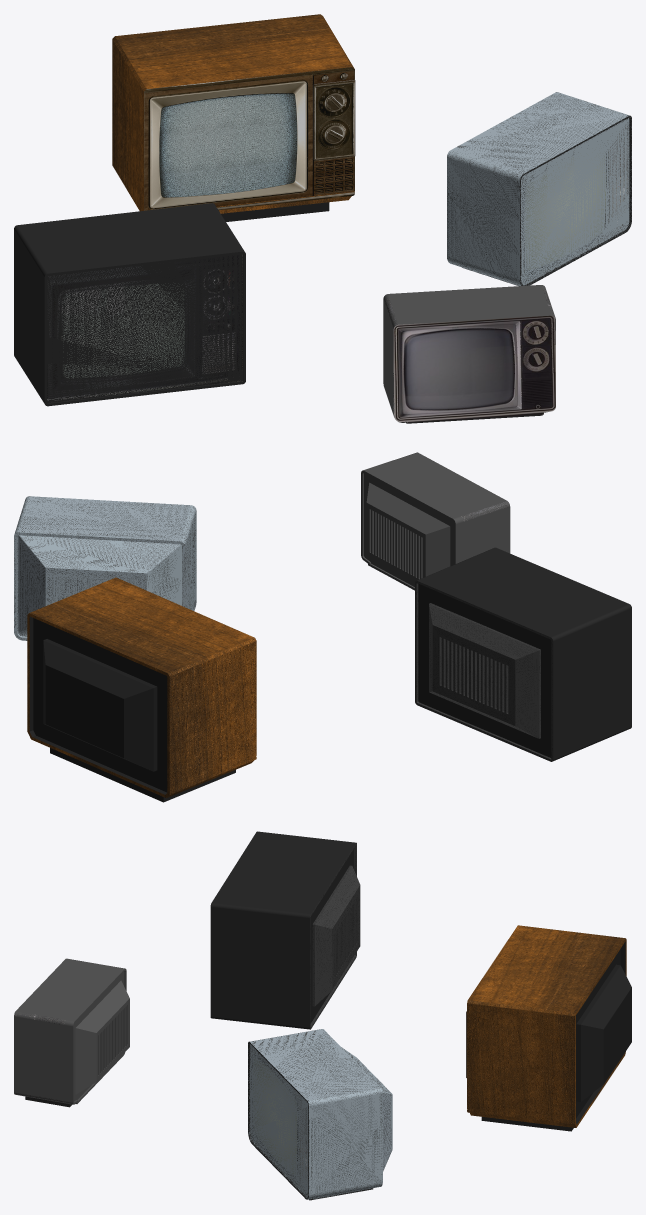
Rendered from oldTVs.fbx.
3 renders of one model, top to bottom at view 1: azimuth 30°, elevation 25°; view 2: azimuth 150°, elevation 25°; view 3: azimuth 270°, elevation 25°, orthographic. The views are drawn at different scales.
Parts seen in each view (by area): view 1: Group2, Group1, Group4, Group3; view 2: Group2, Group1, Group4, Group3; view 3: Group2, Group1, Group4, Group3.
Boxes of the visible parts, bbox=[...] form: Group2: bbox=[112, 14, 355, 221]; Group1: bbox=[14, 203, 245, 406]; Group4: bbox=[447, 92, 631, 285]; Group3: bbox=[383, 285, 555, 423]; Group2: bbox=[27, 577, 256, 802]; Group1: bbox=[415, 547, 631, 761]; Group4: bbox=[14, 496, 196, 640]; Group3: bbox=[361, 452, 510, 590]; Group2: bbox=[466, 925, 631, 1131]; Group1: bbox=[210, 831, 360, 1029]; Group4: bbox=[248, 1029, 392, 1200]; Group3: bbox=[14, 958, 129, 1107].
Size of the model in its own units: 3.87 by 0.8765 by 3.87.
